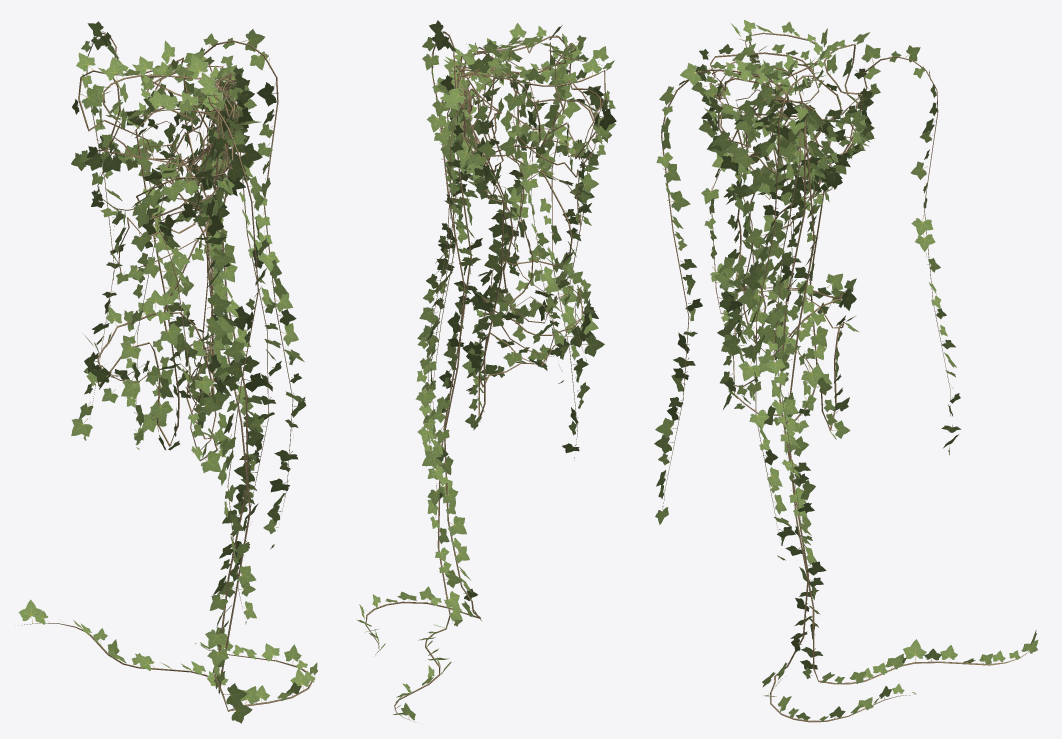
The model's file is ivy_07.fbx.
The picture shows the model from 3 angles, left to right: view 1: azimuth 30°, elevation 25°; view 2: azimuth 150°, elevation 25°; view 3: azimuth 270°, elevation 25°; orthographic projection. The views are drawn at different scales.
Visible parts, largest first — view 1: NewIvySnapshot_8; view 2: NewIvySnapshot_8; view 3: NewIvySnapshot_8.
Part boxes in pixels (x1,y1,x2,y2): NewIvySnapshot_8: [18, 21, 317, 723]; NewIvySnapshot_8: [356, 20, 616, 722]; NewIvySnapshot_8: [654, 20, 1038, 722].
Bounding box in the file's own units: 78.29 × 196 × 112.
